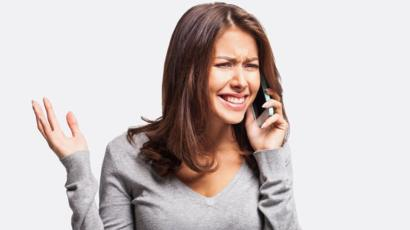person: (143, 2, 291, 178)
